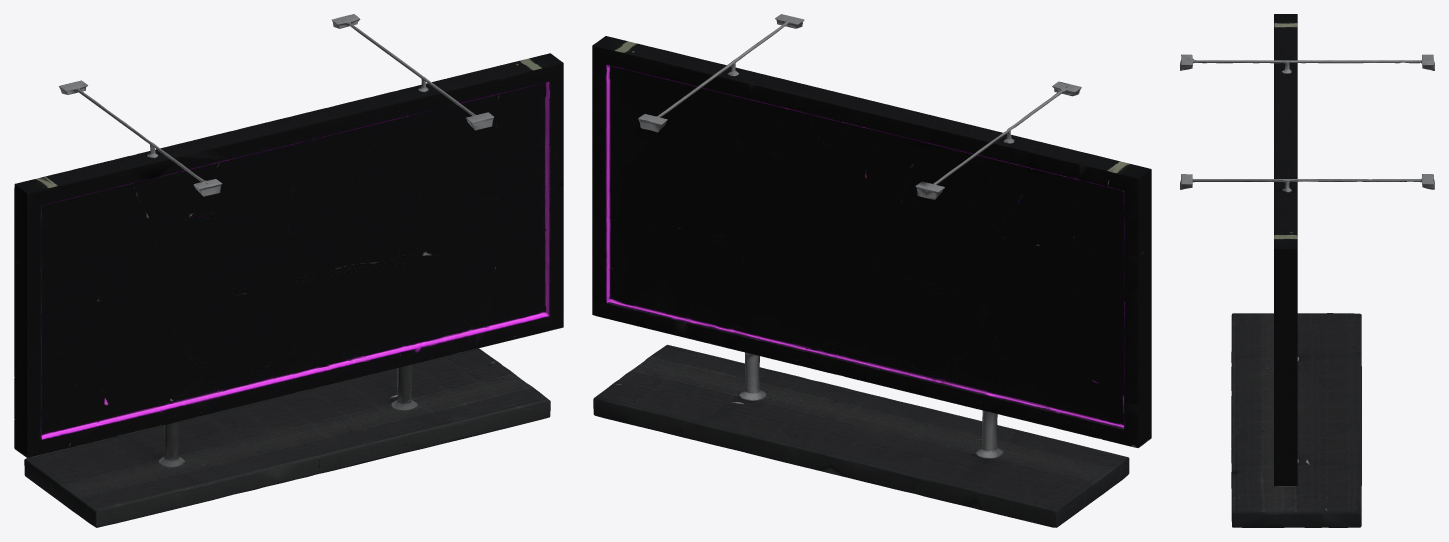
The model's file is billboard_h.glb.
3 views of the same model, side by side, from view 1: azimuth 30°, elevation 25°; view 2: azimuth 150°, elevation 25°; view 3: azimuth 270°, elevation 25° (orthographic). The views are drawn at different scales.
Size of the model in its own units: 1.9 by 1.16 by 0.871.
1 material, 1 textured.
